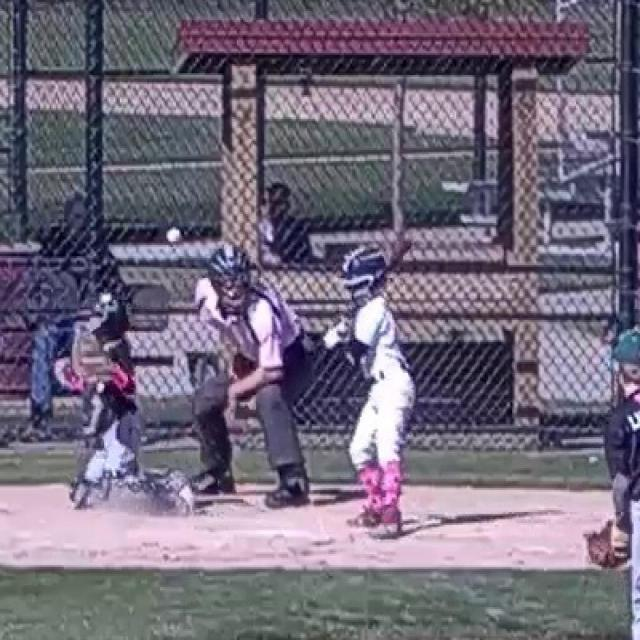baseball: (167, 229, 180, 242)
